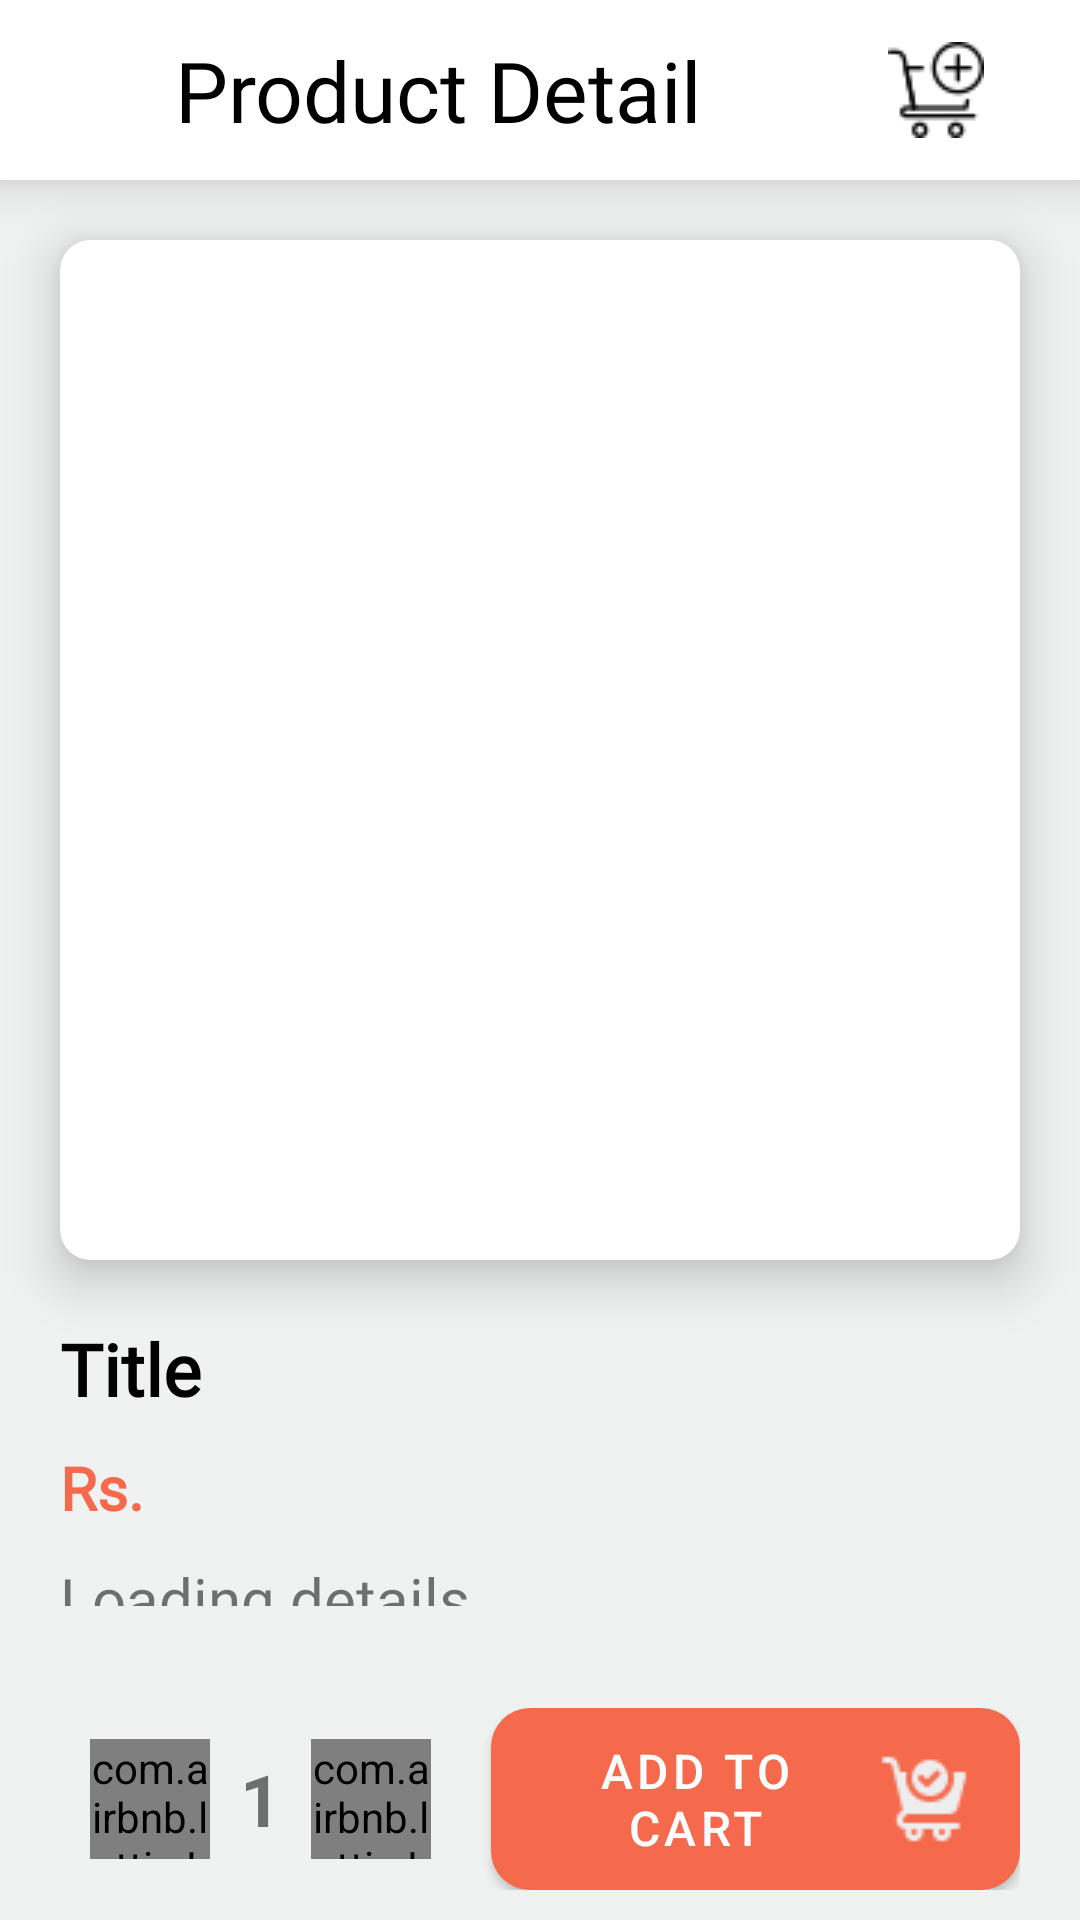

Screen size 1080 x 1920. Icon name, then its box in pixels as (x1, y1, x2, y2):
cart: (888, 42, 984, 138)
